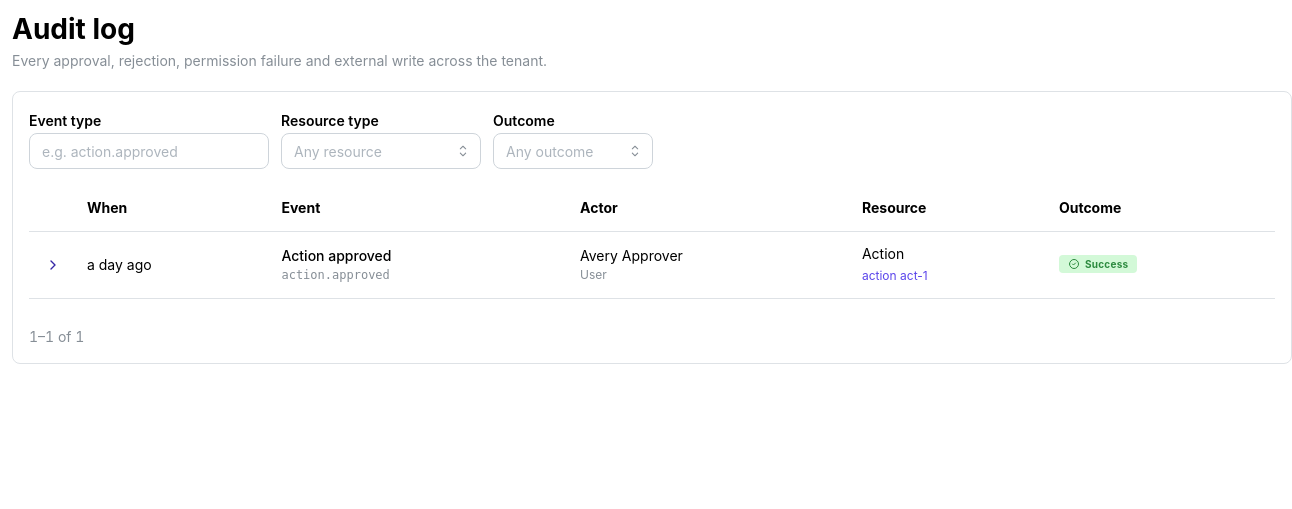
it: <AuditLogPage> rows › shows dashes for a missing correlation id / resource and renders hostile details as text
What coordinates should you click on to do the following:
click the button named "Show details"
I would click on:
 (53, 265)
Its box is [39,251,67,279].
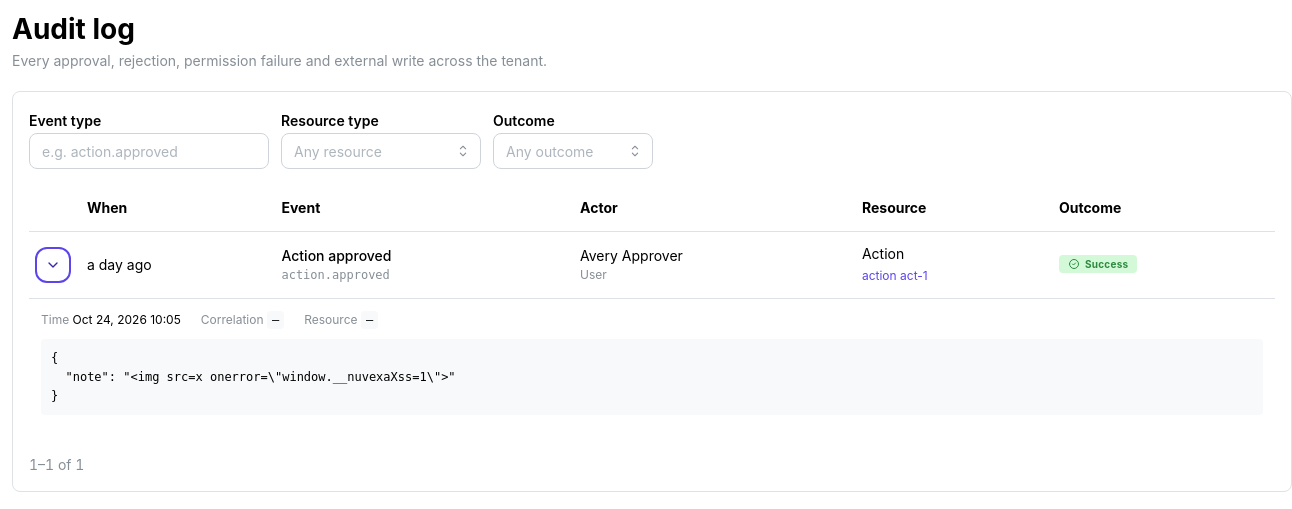
Result: the text "—" is shown 2 times at [267,311,284,329]; [361,311,378,329]
Result: the element with id "audit-details-au-1" shows "window.__nuvexaXss=1" at [51,351,456,403]
